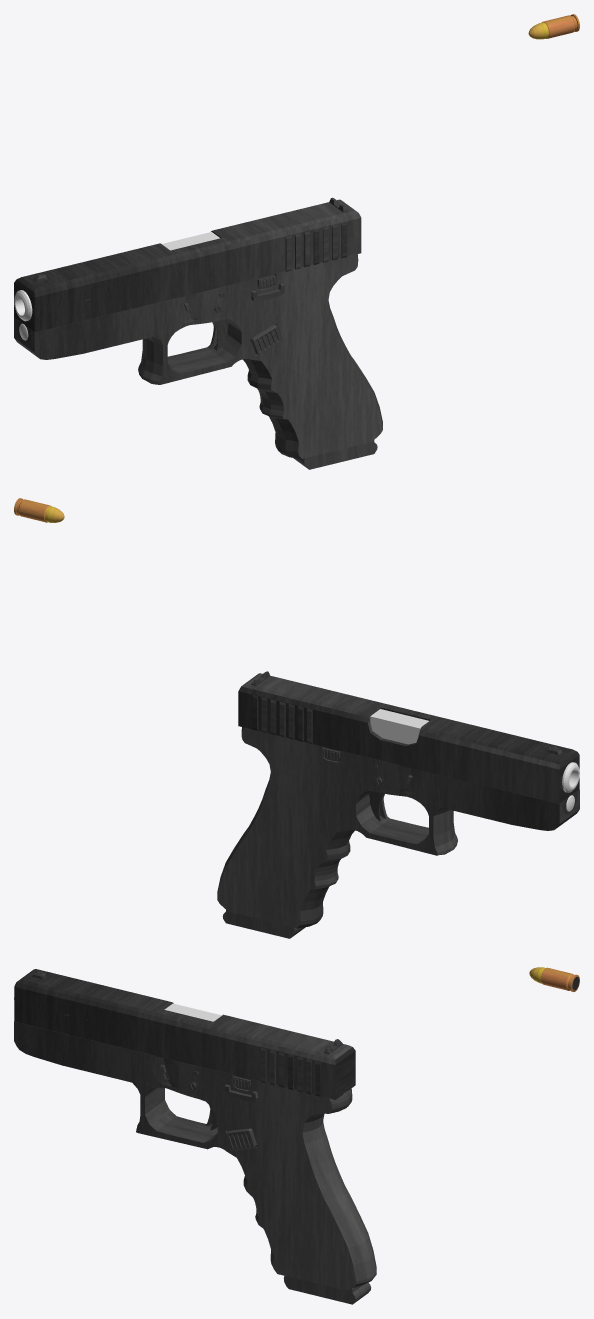
The model's file is GlockFBX.fbx.
3 renders of one model, top to bottom at view 1: azimuth 30°, elevation 25°; view 2: azimuth 150°, elevation 25°; view 3: azimuth 330°, elevation 25°, orthographic.
Visible parts, largest first — view 1: BottomGun, GunSlide, FullMag01, BulletFull.002; view 2: BottomGun, GunSlide, DirtSheild, FullMag01, BulletFull.002; view 3: BottomGun, GunSlide, FullMag01, BulletFull.002, DirtSheild.
Part boxes in pixels (x1=…): BottomGun: x1=14, y1=254, x2=382, y2=458; GunSlide: x1=14, y1=197, x2=361, y2=343; FullMag01: x1=293, y1=440, x2=377, y2=469; BulletFull.002: x1=528, y1=14, x2=579, y2=39; BottomGun: x1=217, y1=727, x2=579, y2=928; GunSlide: x1=238, y1=671, x2=579, y2=814; DirtSheild: x1=370, y1=709, x2=428, y2=744; FullMag01: x1=222, y1=910, x2=305, y2=938; BulletFull.002: x1=14, y1=498, x2=64, y2=522; BottomGun: x1=14, y1=1021, x2=376, y2=1290; GunSlide: x1=14, y1=969, x2=355, y2=1099; FullMag01: x1=283, y1=1276, x2=371, y2=1304; BulletFull.002: x1=529, y1=967, x2=579, y2=991; DirtSheild: x1=164, y1=1003, x2=221, y2=1021.
Size of the model in its own units: 280 by 180 by 21.06.
Materials: 1 (1 with a texture image).
